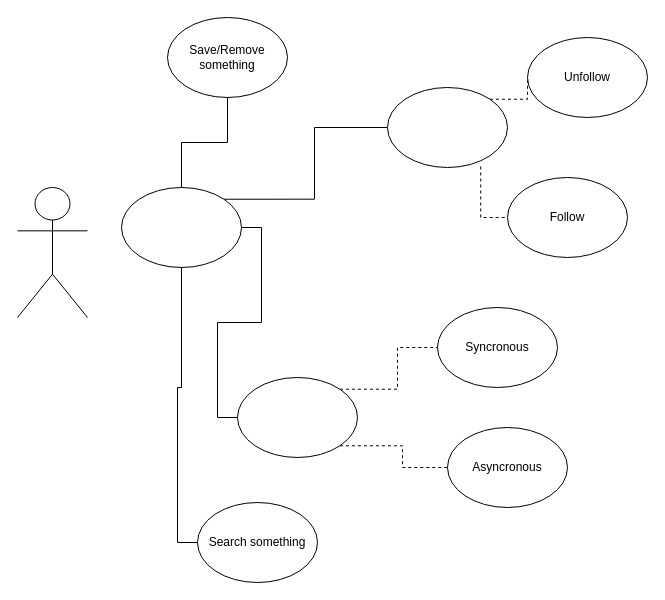
The diagram is 665 pixels wide and 600 high, and some of its shapes have lost their labels. The shapes that lost their labels are listed below. From the top down, each one's centre as x and y in pixels, then its label:
(447,127): Social Requests
(181,227): Access token/Account
(297,417): get something
